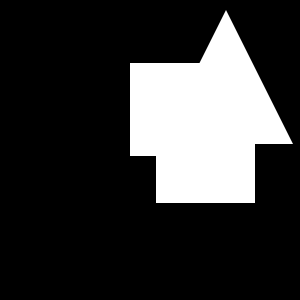circle: (156, 104, 255, 203), (130, 63, 223, 156)
triangle: (159, 10, 293, 144)
